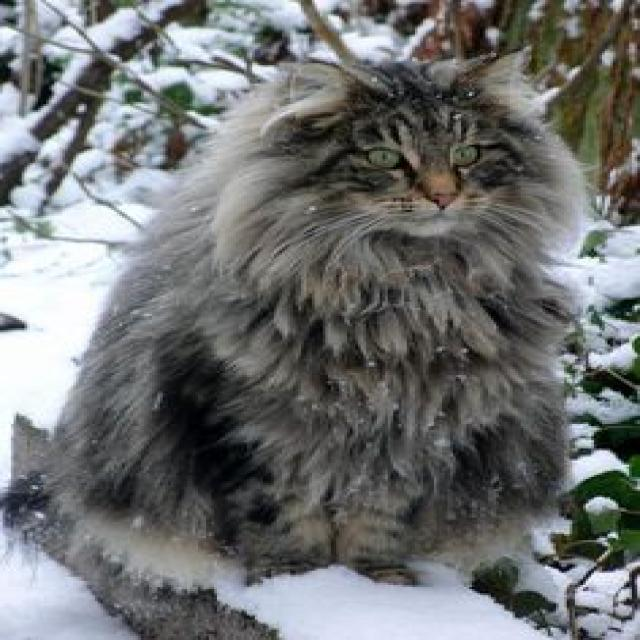da khoe manh: (133, 262, 414, 496)
